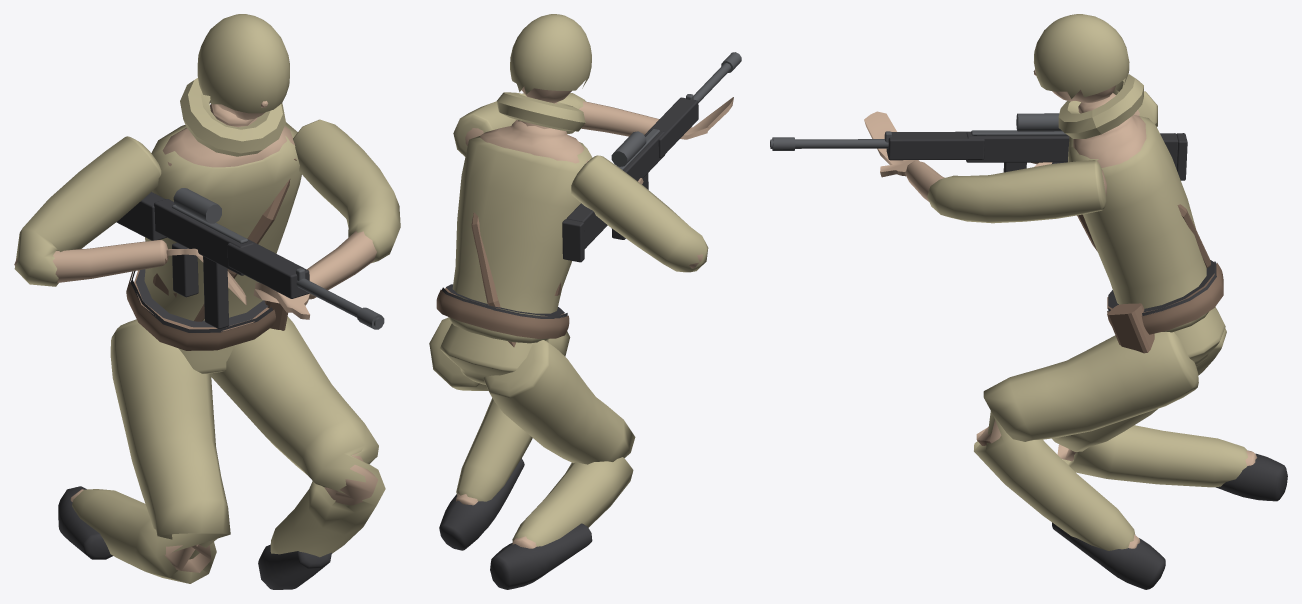
File: tactical-shooter-hill-town-desert-scout-crouch-aim-25593f66__27580.glb
3 renders of one model, left to right at view 1: azimuth 30°, elevation 25°; view 2: azimuth 150°, elevation 25°; view 3: azimuth 270°, elevation 25°, orthographic. The views are drawn at different scales.
Parts seen in each view (by area): view 1: desert-scout-crouch-aim; view 2: desert-scout-crouch-aim; view 3: desert-scout-crouch-aim.
Part boxes in pixels (<box>): desert-scout-crouch-aim: <box>14,14,400,589</box>; desert-scout-crouch-aim: <box>429,14,741,589</box>; desert-scout-crouch-aim: <box>770,14,1287,589</box>.
Bounding box in the file's own units: 0.7207 × 1.36 × 1.18.
